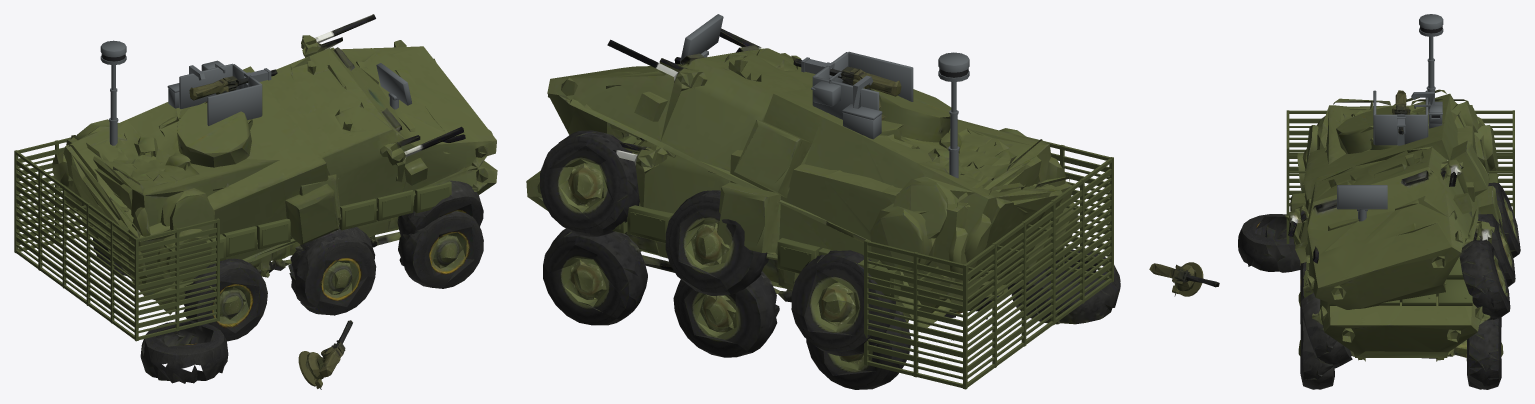
File: apc_kipod.glb
3 renders of one model, left to right at view 1: azimuth 30°, elevation 25°; view 2: azimuth 150°, elevation 25°; view 3: azimuth 270°, elevation 25°, orthographic. The views are drawn at different scales.
Visible parts, largest first — view 1: WRECK_hull_hull, hull_rubber, hull_hull, kit_armour_3_hull_hull_far, WRECK_hull_rubber, kit_armour_3_hull_hull_near, kit_armour_3_hull_hull, kit_armour_2_hull_hull, kit_firepower_3_turret_metal, kit_sensors_3_hull_hull, WRECK_turret_metal, kit_sensors_2_hull_hull (+2 smaller); view 2: WRECK_hull_hull, hull_hull, WRECK_hull_rubber, hull_rubber, kit_armour_3_hull_hull_far, kit_armour_3_hull_hull_near, kit_armour_3_hull_hull, kit_armour_2_hull_hull, kit_firepower_3_turret_metal, kit_firepower_2_turret_metal, kit_sensors_3_hull_hull, kit_sensors_2_hull_hull (+2 smaller); view 3: WRECK_hull_hull, hull_hull, WRECK_hull_rubber, hull_rubber, kit_firepower_3_turret_metal, kit_armour_1_hull_hull, kit_sensors_2_hull_hull, kit_armour_3_hull_hull, kit_armour_3_hull_hull_far, WRECK_turret_metal, kit_sensors_3_hull_hull, kit_armour_3_hull_hull_near (+2 smaller).
Part boxes in pixels (<box>): WRECK_hull_hull: <box>52,14,496,314</box>; hull_rubber: <box>93,211,483,341</box>; hull_hull: <box>58,107,497,318</box>; kit_armour_3_hull_hull_far: <box>16,147,216,327</box>; WRECK_hull_rubber: <box>140,180,483,383</box>; kit_armour_3_hull_hull_near: <box>16,149,216,332</box>; kit_armour_3_hull_hull: <box>14,137,219,341</box>; kit_armour_2_hull_hull: <box>206,181,451,262</box>; kit_firepower_3_turret_metal: <box>179,63,262,125</box>; kit_sensors_3_hull_hull: <box>100,40,126,145</box>; WRECK_turret_metal: <box>298,320,352,388</box>; kit_sensors_2_hull_hull: <box>376,63,411,109</box>; WRECK_hull_hull: <box>547,28,1077,354</box>; hull_hull: <box>526,57,1065,383</box>; WRECK_hull_rubber: <box>540,130,1120,356</box>; hull_rubber: <box>543,228,1013,389</box>; kit_armour_3_hull_hull_far: <box>867,153,1111,373</box>; kit_armour_3_hull_hull_near: <box>867,157,1111,379</box>; kit_armour_3_hull_hull: <box>864,137,1113,389</box>; kit_armour_2_hull_hull: <box>612,205,900,298</box>; kit_firepower_3_turret_metal: <box>812,51,913,119</box>; kit_firepower_2_turret_metal: <box>801,57,882,139</box>; kit_sensors_3_hull_hull: <box>938,52,969,178</box>; kit_sensors_2_hull_hull: <box>680,14,723,64</box>; WRECK_hull_hull: <box>1284,89,1511,309</box>; hull_hull: <box>1299,98,1502,361</box>; WRECK_hull_rubber: <box>1238,182,1520,368</box>; hull_rubber: <box>1298,262,1503,389</box>; kit_firepower_3_turret_metal: <box>1373,90,1428,145</box>; kit_armour_1_hull_hull: <box>1329,257,1472,305</box>; kit_sensors_2_hull_hull: <box>1337,185,1387,221</box>; kit_armour_3_hull_hull: <box>1286,110,1514,243</box>; kit_armour_3_hull_hull_far: <box>1289,118,1512,194</box>; WRECK_turret_metal: <box>1168,262,1219,296</box>; kit_sensors_3_hull_hull: <box>1419,14,1443,109</box>; kit_armour_3_hull_hull_near: <box>1289,120,1512,199</box>.
Bounding box in the file's own units: 7.62 × 5.19 × 6.75.
1 material, 1 textured.
